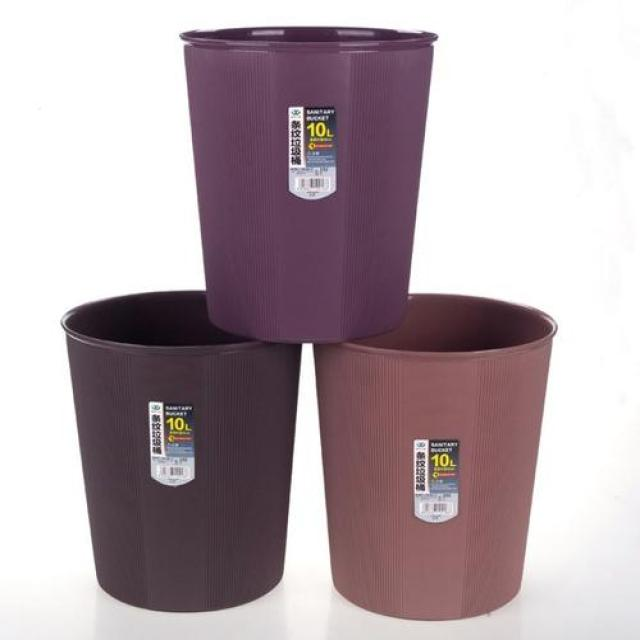dustbin: (176, 18, 443, 345), (307, 288, 562, 626), (56, 285, 309, 617)
